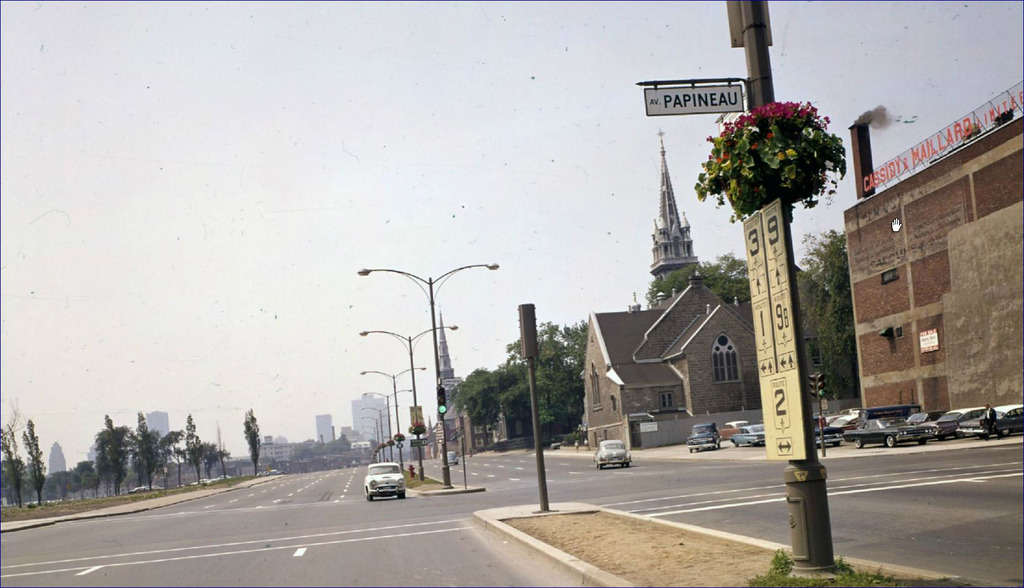Tree: (444, 229, 854, 452), (0, 399, 231, 510), (292, 435, 352, 462), (246, 410, 259, 480)
